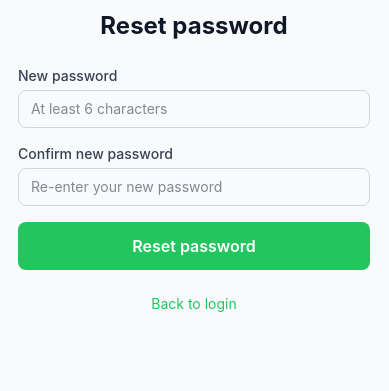
Test: ResetPassword › shows error when passwords do not match
This screenshot has width=389, height=391.
Type "password1" into the password field with placeholder "At least 6 characters".
click(194, 109); type("password1")  # box x1=18 y1=90 x2=370 y2=128
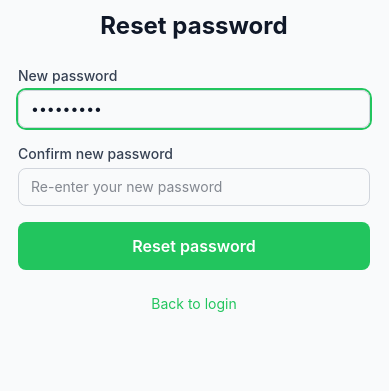
Type "password2" into the password field with placeholder "Re-enter your new password".
click(194, 187); type("password2")  # box x1=18 y1=168 x2=370 y2=206
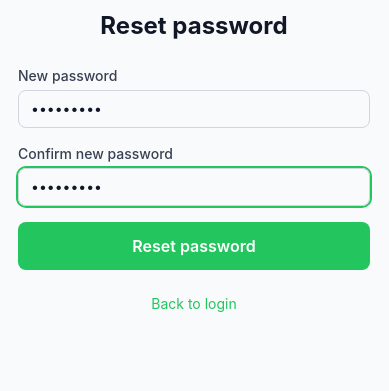
Click the button "Reset password".
click(194, 246)  # box x1=18 y1=222 x2=370 y2=270
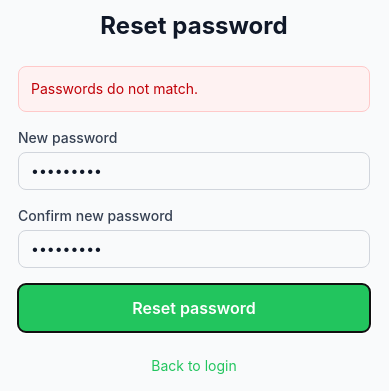
expect the text "Passwords do not match." is shown: met, box x1=18 y1=66 x2=370 y2=112
